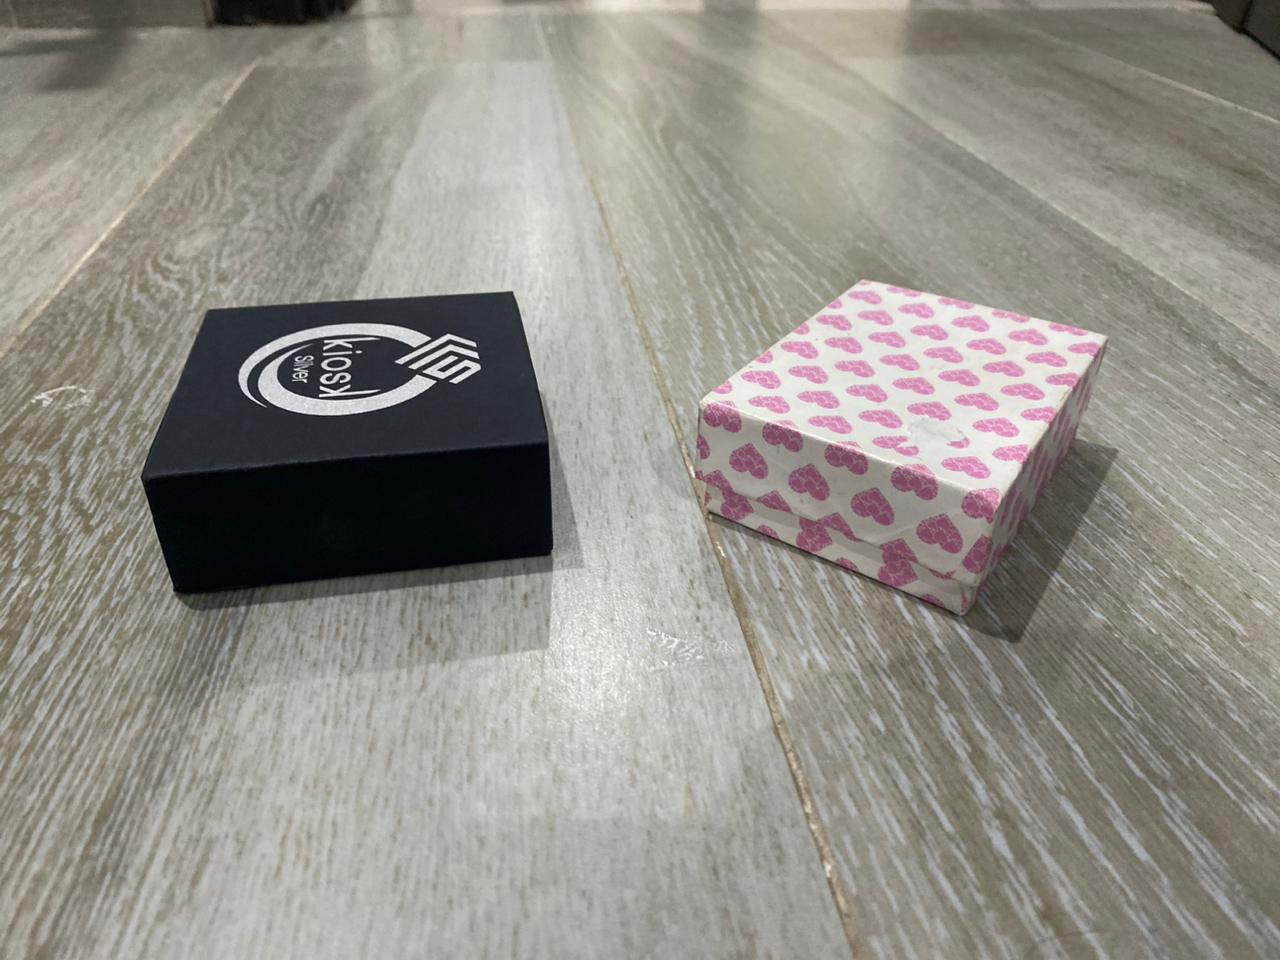Pink Box: (685, 272, 1119, 620)
Red Box: (137, 291, 565, 603)
